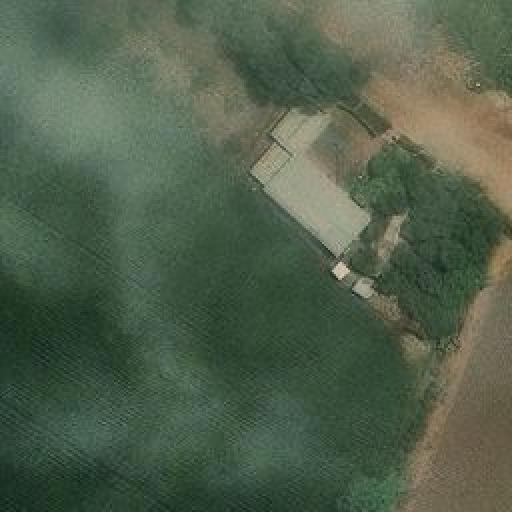manzanas: (243, 84, 457, 319)
